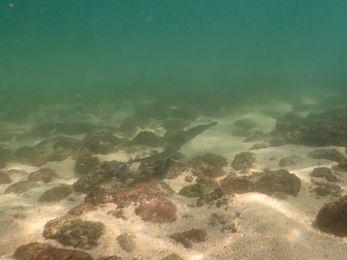Fistularia commersonii: (111, 118, 218, 179)
